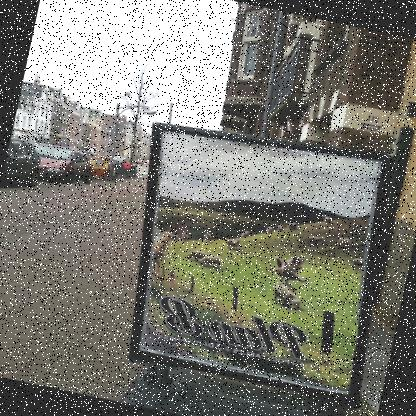Car: (27, 140, 96, 186), (0, 136, 44, 193), (80, 151, 108, 178), (116, 155, 128, 163), (100, 153, 112, 161), (135, 158, 143, 164)
